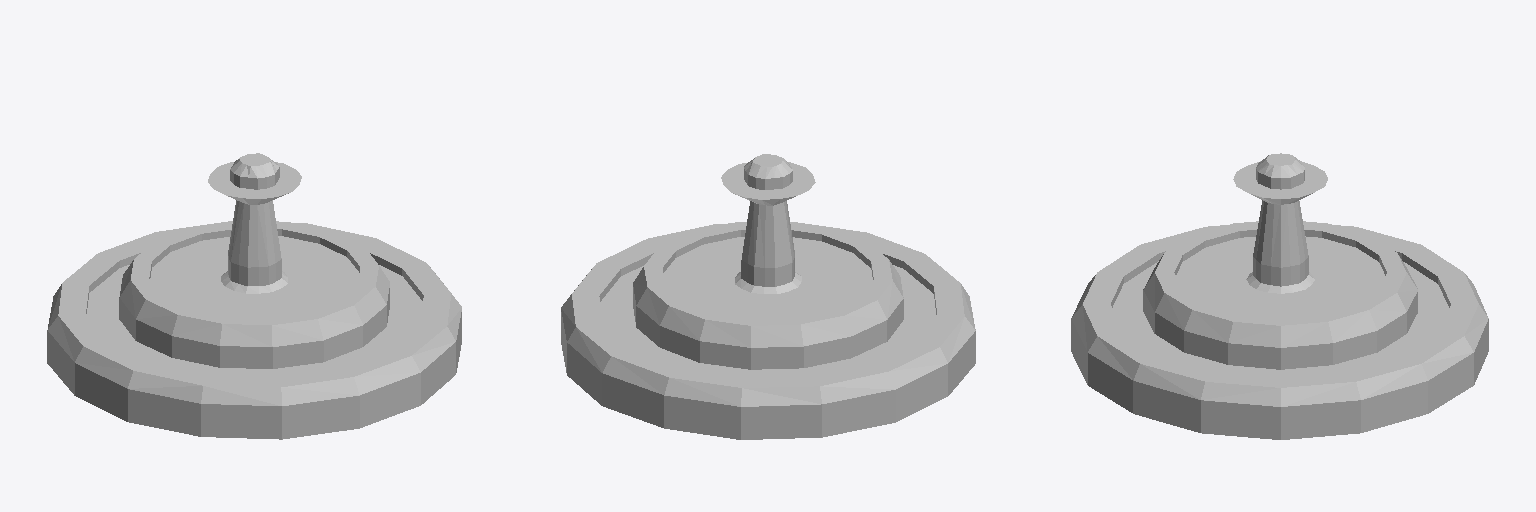
Rendered from tris.obj.
3 views of the same model, side by side, from view 1: azimuth 30°, elevation 25°; view 2: azimuth 150°, elevation 25°; view 3: azimuth 270°, elevation 25° (orthographic).
Parts seen in each view (by area): view 1: Group; view 2: Group; view 3: Group.
Part boxes in pixels (bbox=[...]): Group: bbox=[47, 153, 461, 439]; Group: bbox=[561, 154, 975, 439]; Group: bbox=[1071, 153, 1488, 439].
Size of the model in its own units: 91.59 by 46.48 by 91.59.